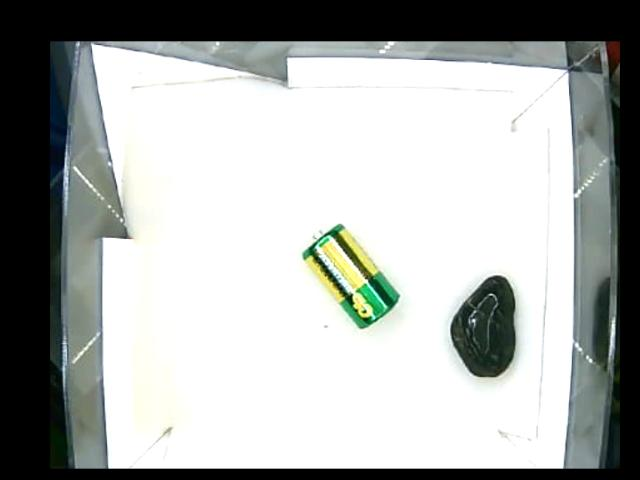Battery: (302, 220, 400, 330)
Pebble: (450, 275, 517, 374)
